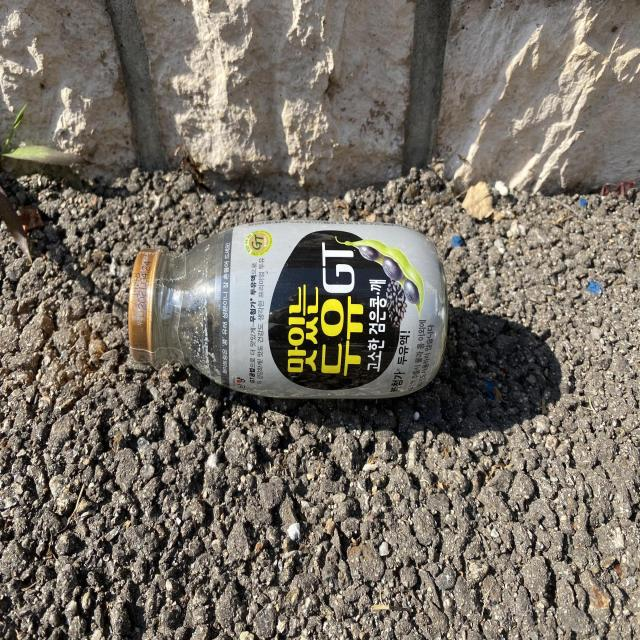glass: (128, 220, 448, 399)
